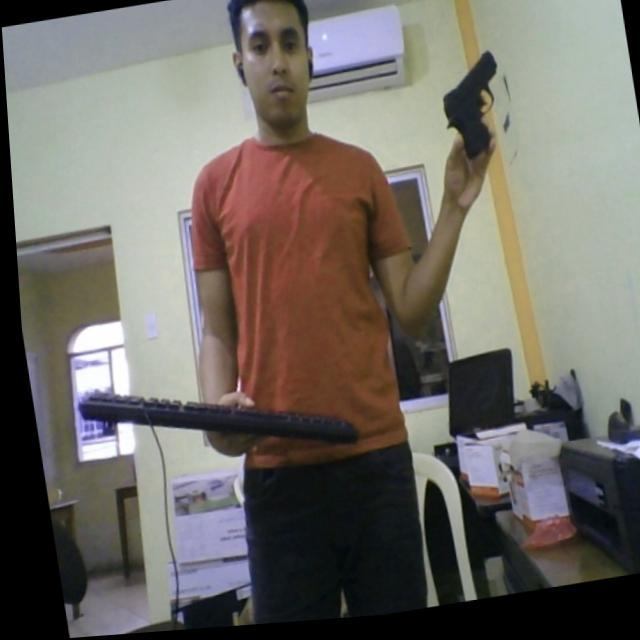weapon: (428, 54, 511, 174)
